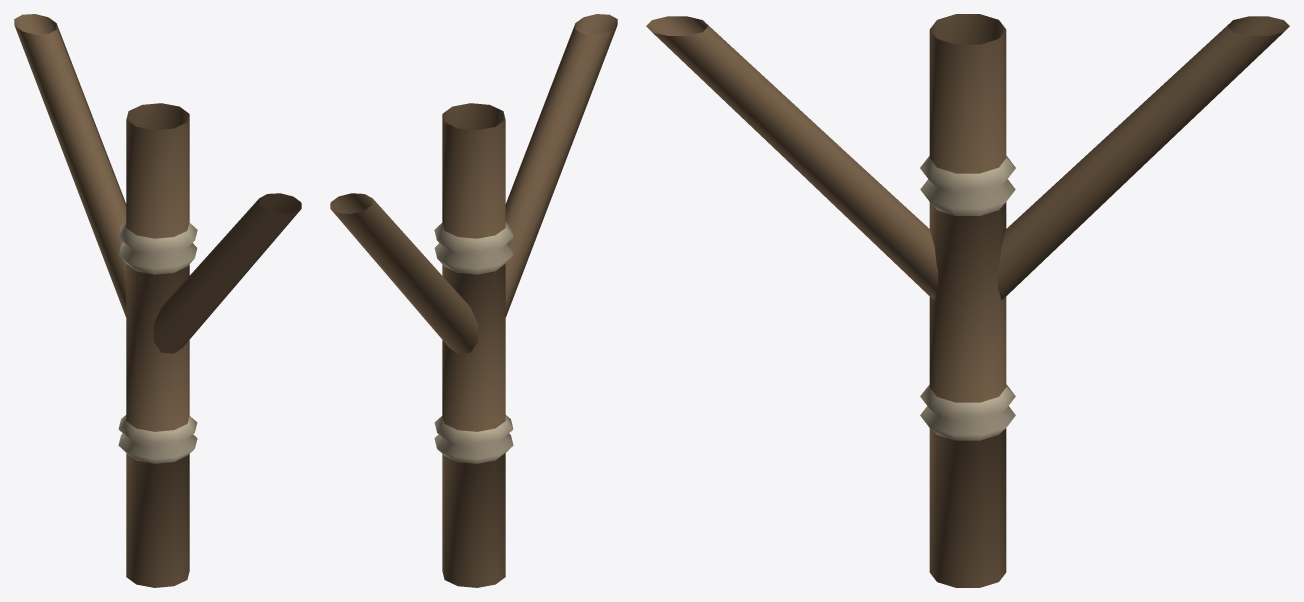
File: rpgpp_ag_support_beam_int_01c_3m.fbx
3 renders of one model, left to right at view 1: azimuth 30°, elevation 25°; view 2: azimuth 150°, elevation 25°; view 3: azimuth 270°, elevation 25°, orthographic. The views are drawn at different scales.
Parts seen in each view (by area): view 1: rpgpp_ag_support_beam_int_01c_3m; view 2: rpgpp_ag_support_beam_int_01c_3m; view 3: rpgpp_ag_support_beam_int_01c_3m.
Part boxes in pixels (x1=…): rpgpp_ag_support_beam_int_01c_3m: x1=14, y1=14, x2=301, y2=587; rpgpp_ag_support_beam_int_01c_3m: x1=330, y1=14, x2=617, y2=587; rpgpp_ag_support_beam_int_01c_3m: x1=646, y1=14, x2=1289, y2=587.
Size of the model in its own units: 0.4431 by 2.92 by 3.12.
